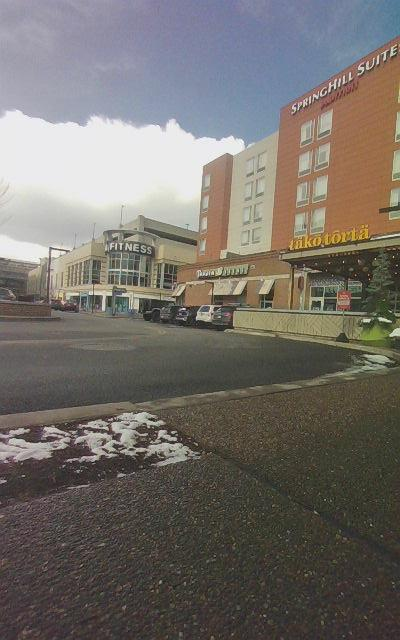curb: (0, 367, 399, 639)
road: (0, 313, 396, 414)
